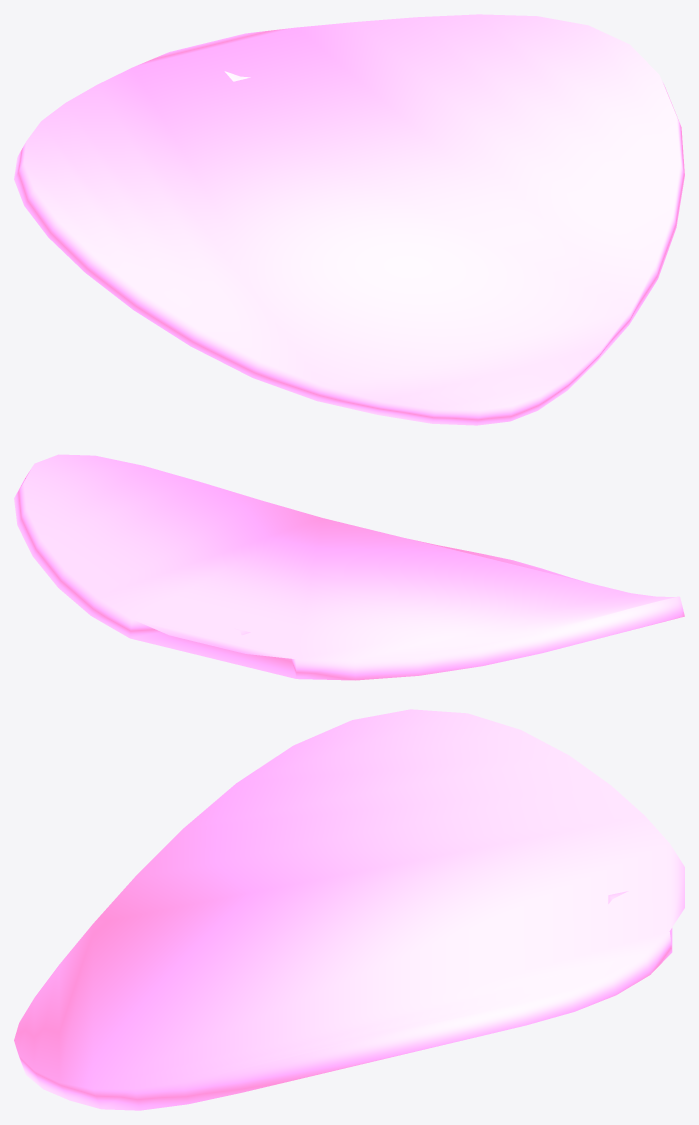
The model's file is petal.glb.
3 views of the same model, one above another, from view 1: azimuth 30°, elevation 25°; view 2: azimuth 150°, elevation 25°; view 3: azimuth 270°, elevation 25° (orthographic). The views are drawn at different scales.
Visible parts, largest first — view 1: petal; view 2: petal; view 3: petal.
Part boxes in pixels (x1=…): petal: x1=14, y1=14, x2=684, y2=425; petal: x1=14, y1=454, x2=684, y2=680; petal: x1=14, y1=709, x2=684, y2=1110.
Bounding box in the file's own units: 0.6942 × 0.1915 × 0.5954.
